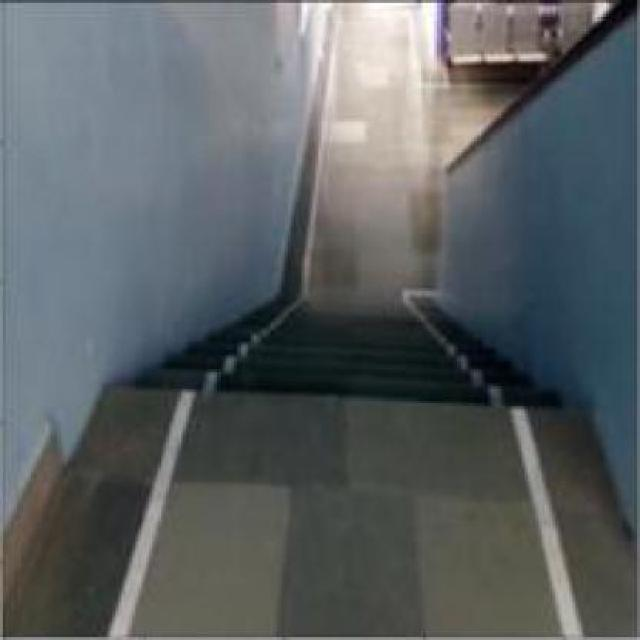stair: (91, 263, 592, 449)
